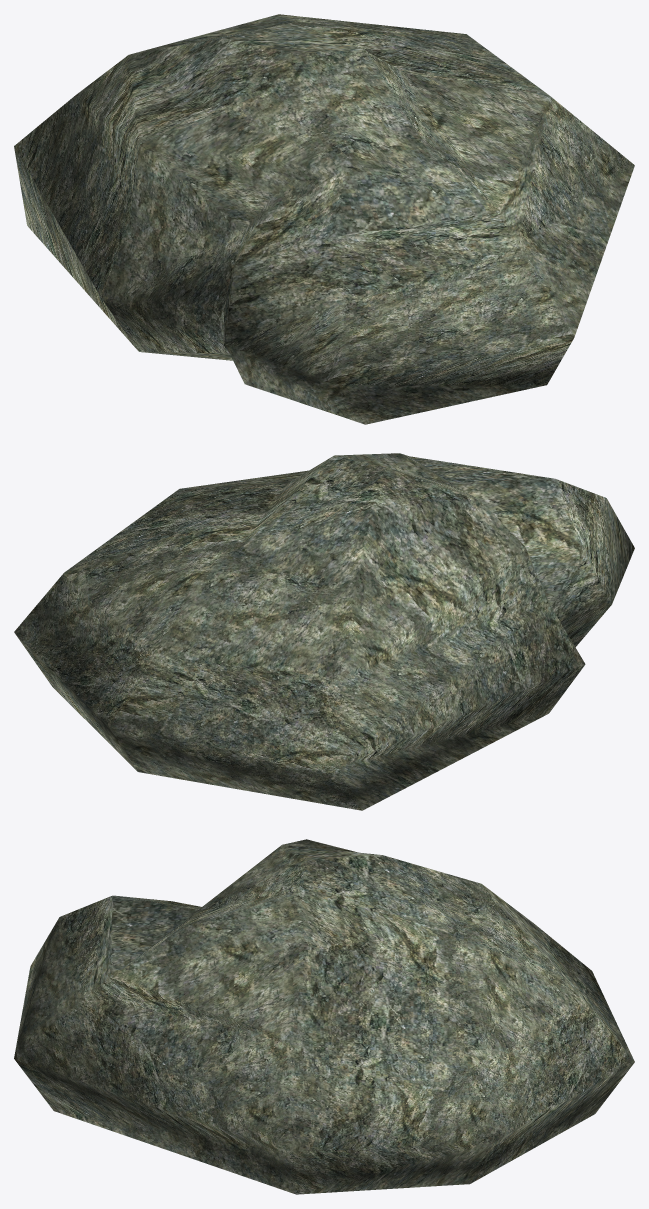
File: mtns_rock_grey_a4_l0.fbx
3 renders of one model, top to bottom at view 1: azimuth 30°, elevation 25°; view 2: azimuth 150°, elevation 25°; view 3: azimuth 270°, elevation 25°, orthographic. The views are drawn at different scales.
Parts seen in each view (by area): view 1: mesh_node; view 2: mesh_node; view 3: mesh_node.
Part boxes in pixels (x1=…): mesh_node: x1=14, y1=14, x2=634, y2=424; mesh_node: x1=14, y1=453, x2=634, y2=810; mesh_node: x1=14, y1=839, x2=634, y2=1194.
Bounding box in the file's own units: 2.67 × 1.41 × 3.15.
Materials: 1 (1 with a texture image).
